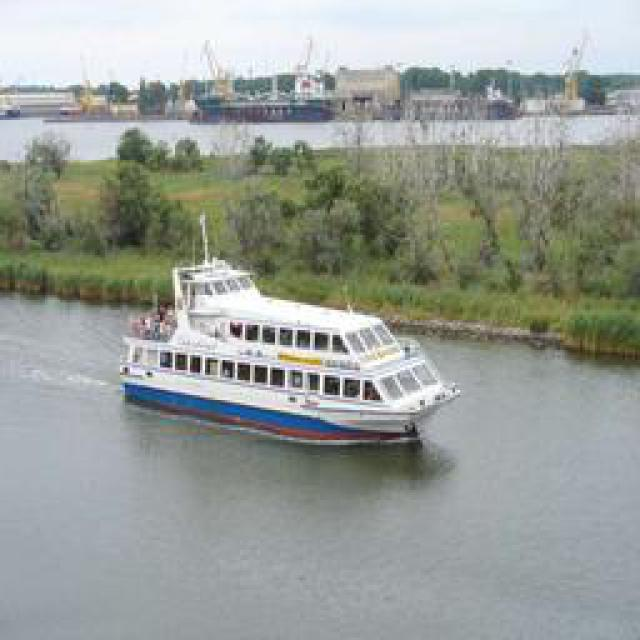Ship: (120, 221, 463, 449)
